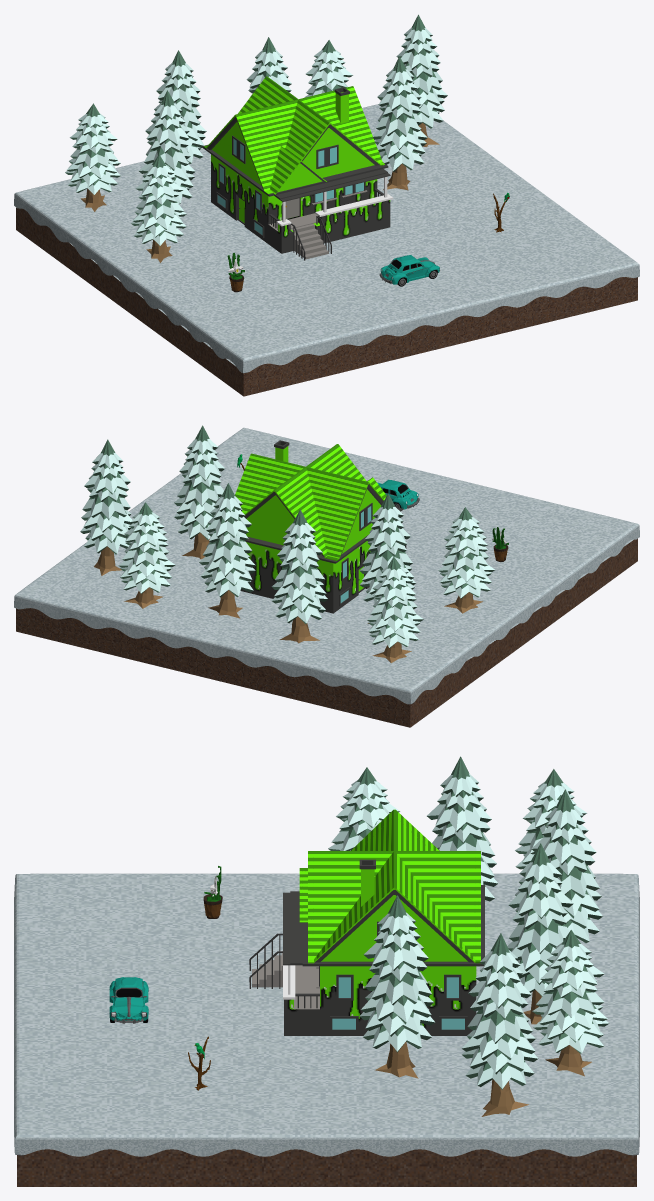
The picture shows the model from 3 angles, top to bottom: view 1: azimuth 30°, elevation 25°; view 2: azimuth 150°, elevation 25°; view 3: azimuth 270°, elevation 25°; orthographic projection. The views are drawn at different scales.
Visible parts, largest first — view 1: Cube.003, Cube.754, VEHICLES_VOLKSWAGEN; view 2: Cube.003, Cube.754, VEHICLES_VOLKSWAGEN; view 3: Cube.003, Cube.754, VEHICLES_VOLKSWAGEN, OBJRANDOM_MONJA BLANCA.
Boxes of the visible parts, x1,y1,x2,y2 form: Cube.003: (14, 14, 639, 396); Cube.754: (202, 76, 393, 260); VEHICLES_VOLKSWAGEN: (379, 255, 440, 286); Cube.003: (14, 425, 639, 727); Cube.754: (235, 440, 406, 613); VEHICLES_VOLKSWAGEN: (377, 479, 419, 509); Cube.003: (14, 756, 639, 1186); Cube.754: (249, 809, 484, 1035); VEHICLES_VOLKSWAGEN: (109, 977, 148, 1023); OBJRANDOM_MONJA BLANCA: (203, 866, 222, 918).
Size of the model in its own units: 4040 by 1665 by 4040.
Materials: 33 (4 with a texture image).
